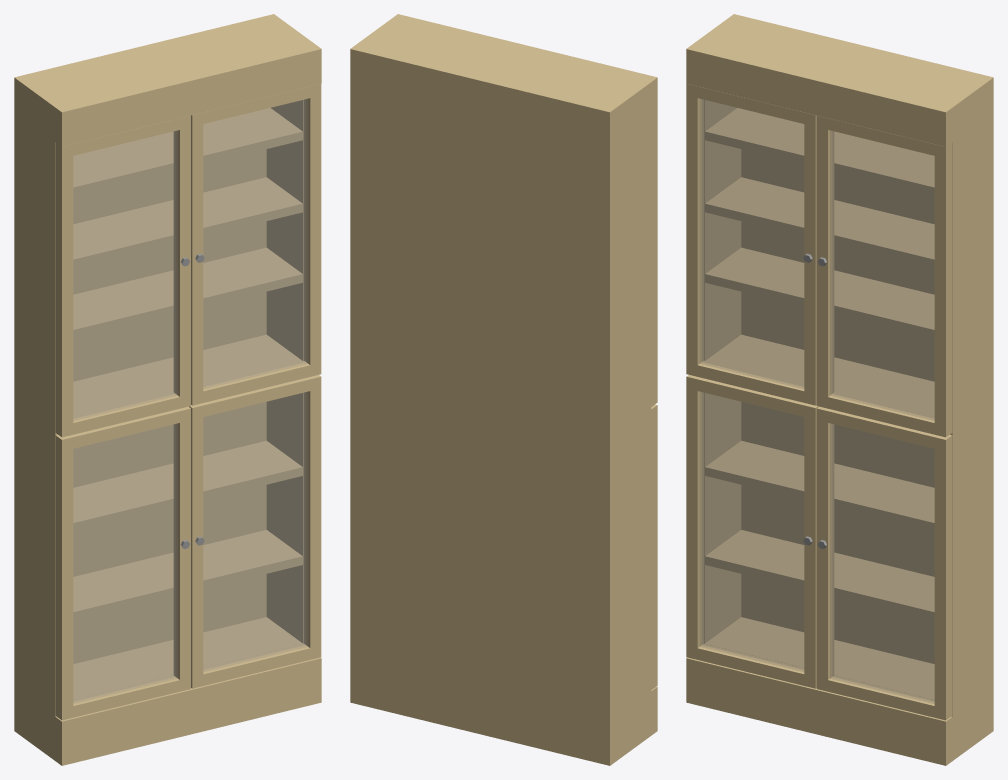
The model's file is ScienceGlassCabinet_01.fbx.
3 renders of one model, left to right at view 1: azimuth 30°, elevation 25°; view 2: azimuth 150°, elevation 25°; view 3: azimuth 330°, elevation 25°, orthographic.
Parts seen in each view (by area): view 1: ScienceGlassCabinet; view 2: ScienceGlassCabinet; view 3: ScienceGlassCabinet.
Part boxes in pixels (left/top/right/bottom): ScienceGlassCabinet: left=14, top=14, right=321, bottom=765; ScienceGlassCabinet: left=350, top=14, right=657, bottom=765; ScienceGlassCabinet: left=686, top=14, right=993, bottom=765.
Bounding box in the file's own units: 458 × 1102 × 151.
